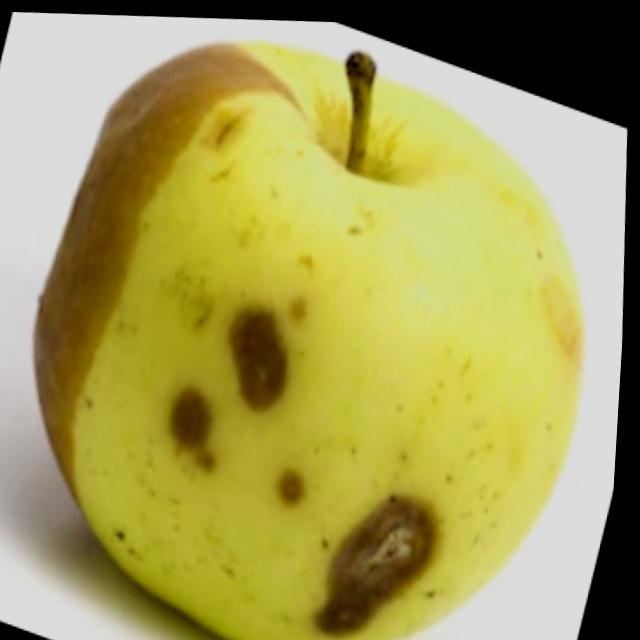organik: (4, 2, 602, 640)
